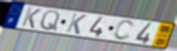4: (135, 22, 152, 45), (88, 15, 104, 38)
C: (112, 19, 135, 42)
K: (19, 6, 43, 30), (65, 12, 88, 36)
Q: (38, 9, 62, 32)
